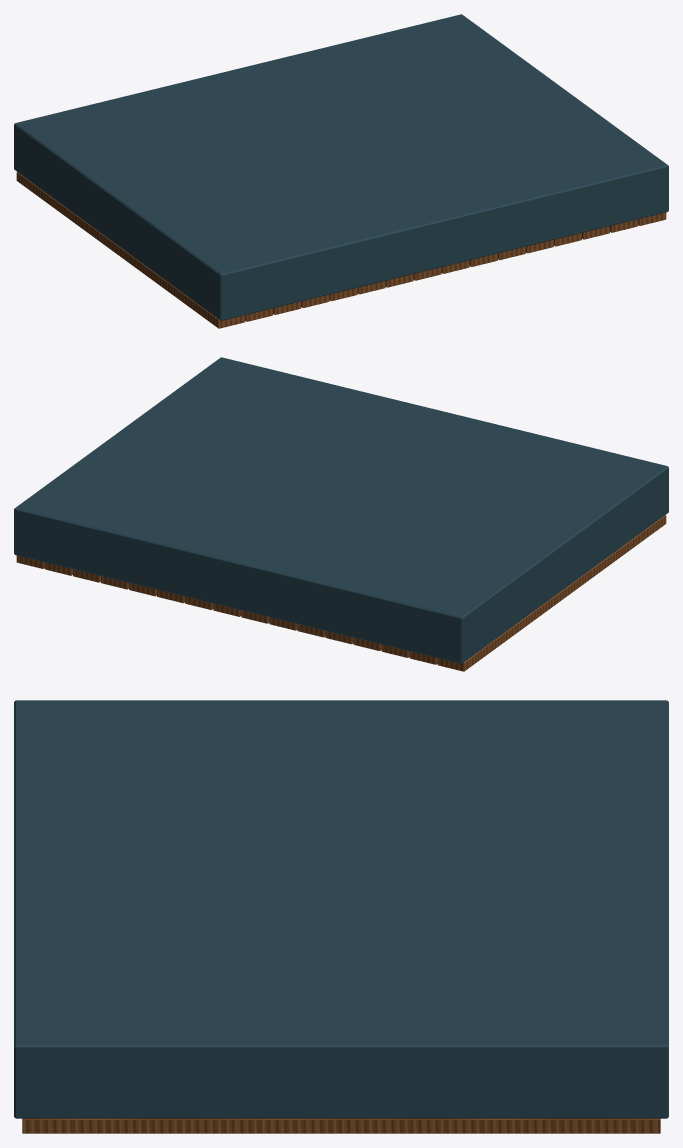
The model's file is canopy-2m.glb.
3 views of the same model, one above another, from view 1: azimuth 30°, elevation 25°; view 2: azimuth 150°, elevation 25°; view 3: azimuth 270°, elevation 25° (orthographic). The views are drawn at different scales.
Visible parts, largest first — view 1: canopy-2m; view 2: canopy-2m; view 3: canopy-2m.
Boxes of the visible parts, x1,y1,x2,y2 form: canopy-2m: [14, 14, 668, 328]; canopy-2m: [14, 357, 668, 671]; canopy-2m: [14, 700, 668, 1133].
Size of the model in its own units: 2 by 0.24 by 1.6.
2 materials, 1 textured.
